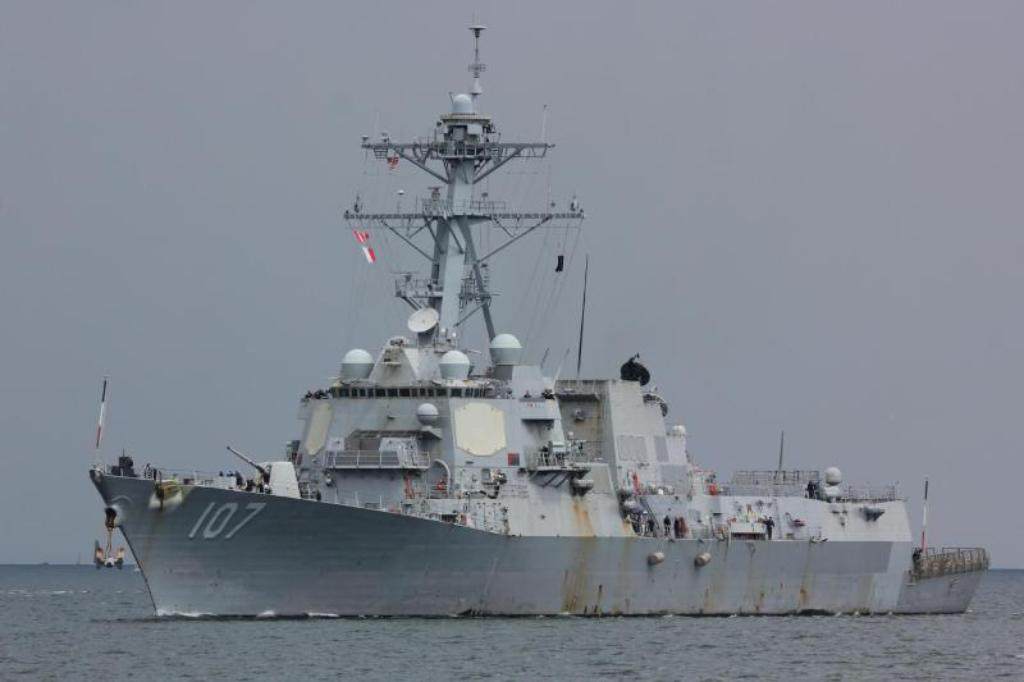Warship: (86, 25, 1000, 624)
